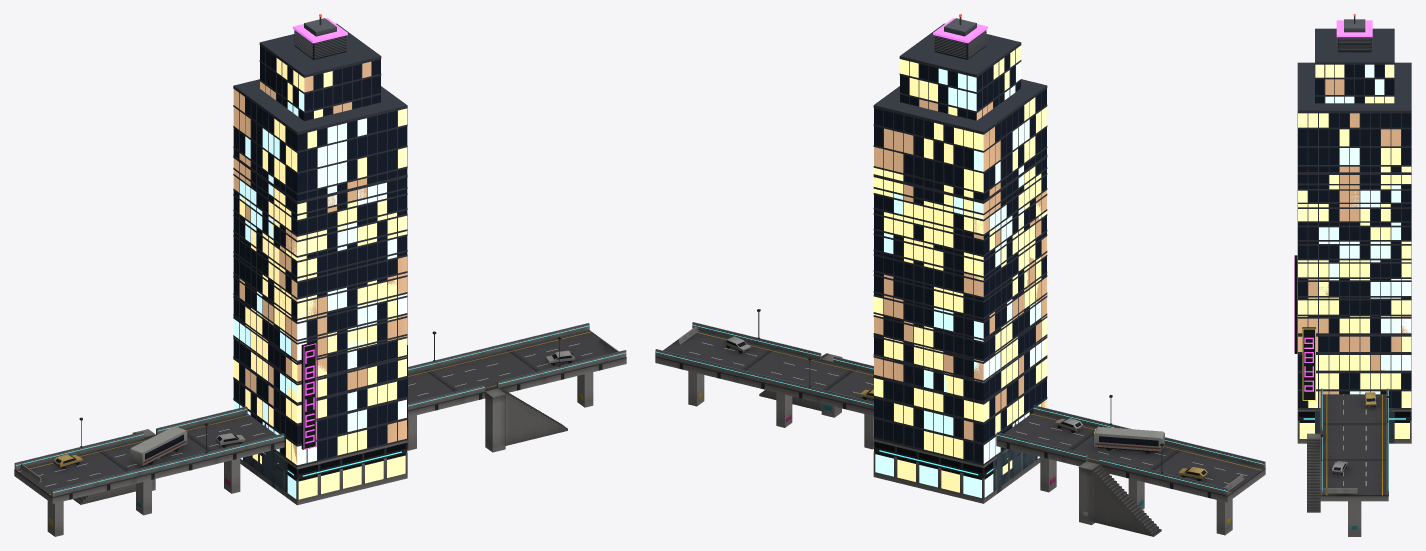
Rendered from neon.glb.
The picture shows the model from 3 angles, left to right: view 1: azimuth 30°, elevation 25°; view 2: azimuth 150°, elevation 25°; view 3: azimuth 270°, elevation 25°; orthographic projection. The views are drawn at different scales.
Parts seen in each view (by area): view 1: nc-tower-a, nc-tower-c, nc-highway, nc-highway-lod, nc-arcade; view 2: nc-tower-a, nc-tower-c, nc-highway, nc-highway-lod, nc-arcade; view 3: nc-tower-a, nc-tower-c, nc-highway, nc-highway-lod, nc-arcade, nc-arcade-lod.
Part boxes in pixels (box(x1,y1,x2,y2)): nc-tower-a: box(233, 79, 407, 505); nc-tower-c: box(233, 14, 407, 493); nc-highway: box(14, 323, 626, 536); nc-highway-lod: box(16, 324, 625, 536); nc-arcade: box(243, 450, 287, 497); nc-tower-a: box(873, 79, 1047, 503); nc-tower-c: box(873, 14, 1047, 487); nc-highway: box(655, 309, 1265, 536); nc-highway-lod: box(655, 324, 1265, 535); nc-arcade: box(993, 449, 1037, 493); nc-tower-a: box(1294, 62, 1411, 443); nc-tower-c: box(1297, 14, 1411, 407); nc-highway: box(1307, 388, 1388, 536); nc-highway-lod: box(1320, 389, 1388, 536); nc-arcade: box(1315, 408, 1394, 443); nc-arcade-lod: box(1315, 408, 1394, 443).
Size of the model in its own units: 104 by 78.6 by 20.6.
